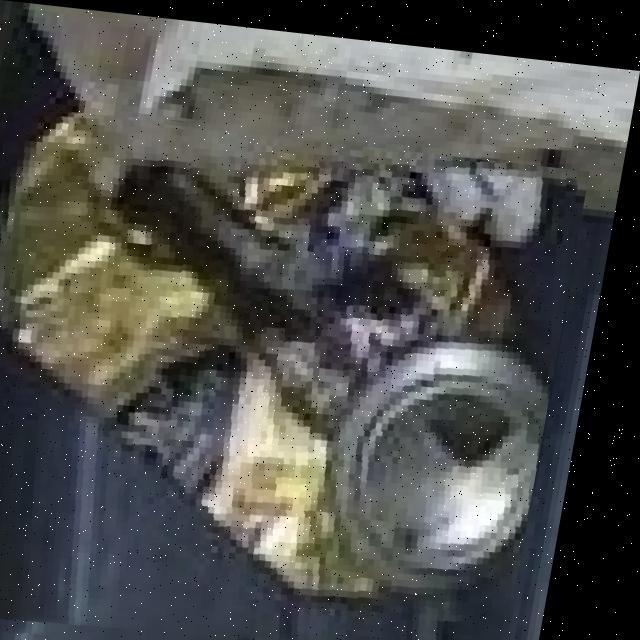can: (0, 108, 557, 638)
